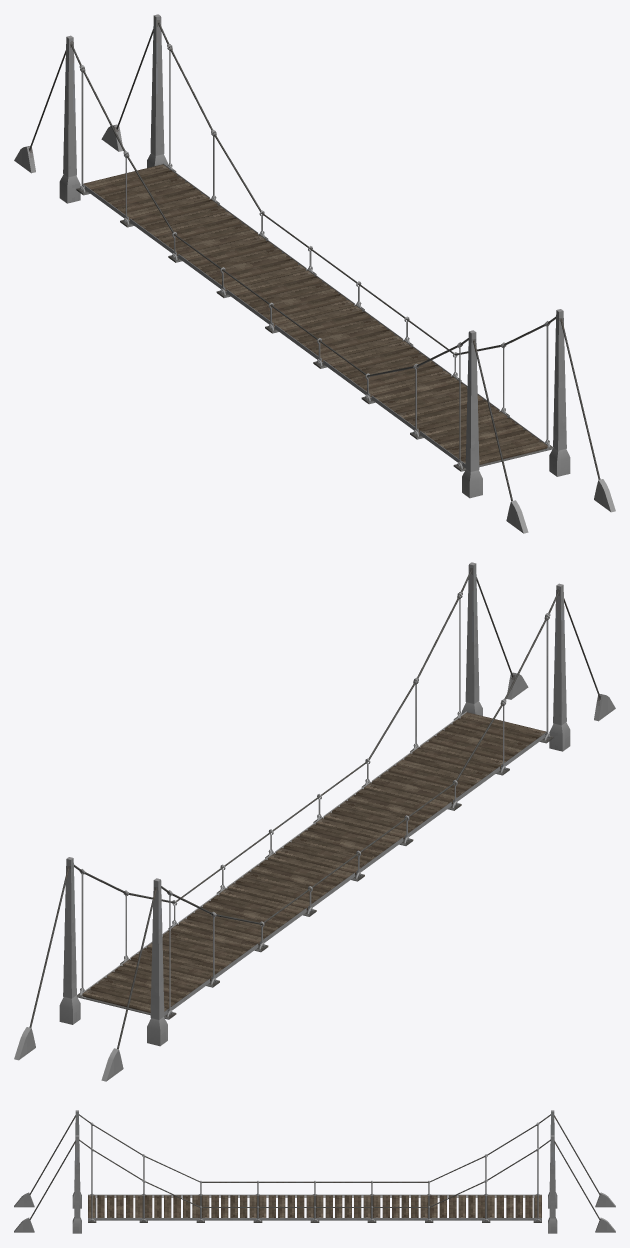
The model's file is objects_un_sus_bridge01_20m.gltf.
3 views of the same model, one above another, from view 1: azimuth 30°, elevation 25°; view 2: azimuth 150°, elevation 25°; view 3: azimuth 270°, elevation 25° (orthographic). The views are drawn at different scales.
Visible parts, largest first — view 1: objects_un_sus_bridge01_20m_mesh_shape:objects_un_sus_bridge; view 2: objects_un_sus_bridge01_20m_mesh_shape:objects_un_sus_bridge; view 3: objects_un_sus_bridge01_20m_mesh_shape:objects_un_sus_bridge.
Boxes of the visible parts, x1=… form: objects_un_sus_bridge01_20m_mesh_shape:objects_un_sus_bridge: x1=14, y1=14, x2=615, y2=533; objects_un_sus_bridge01_20m_mesh_shape:objects_un_sus_bridge: x1=14, y1=562, x2=615, y2=1081; objects_un_sus_bridge01_20m_mesh_shape:objects_un_sus_bridge: x1=14, y1=1110, x2=615, y2=1233.
Size of the model in its own units: 3.25 by 5 by 28.49.
Materials: 1 (1 with a texture image).
